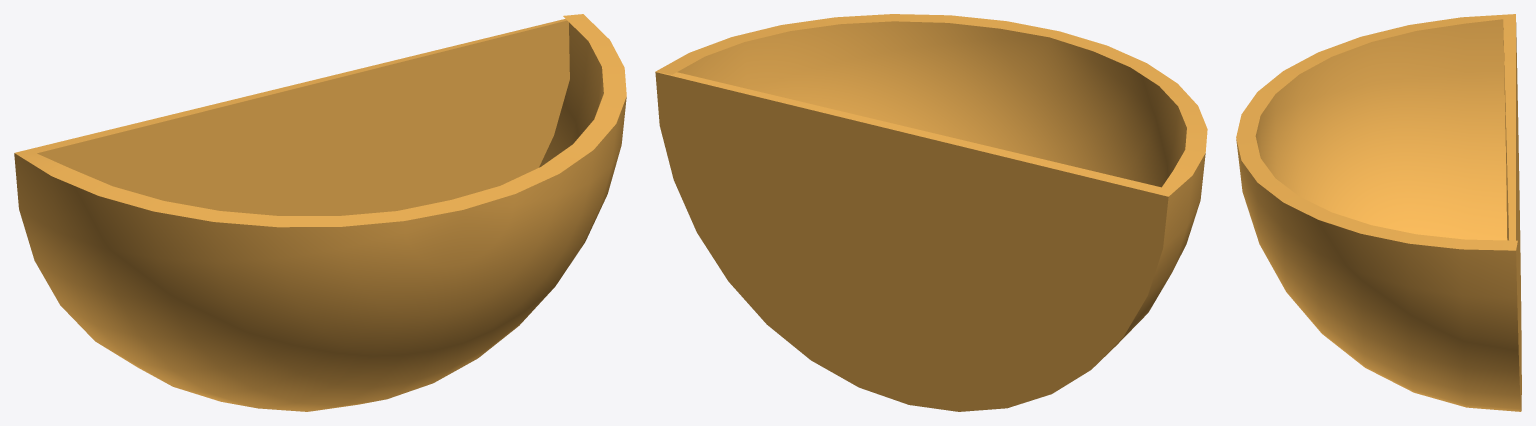
The model's file is kosz_zamykanie.gltf.
3 views of the same model, side by side, from view 1: azimuth 30°, elevation 25°; view 2: azimuth 150°, elevation 25°; view 3: azimuth 270°, elevation 25° (orthographic). The views are drawn at different scales.
Parts seen in each view (by area): view 1: Sphere.002; view 2: Sphere.002; view 3: Sphere.002.
Boxes of the visible parts, x1,y1,x2,y2 form: Sphere.002: [14, 14, 626, 411]; Sphere.002: [655, 14, 1207, 411]; Sphere.002: [1236, 14, 1521, 411].
Size of the model in its own units: 1.85 by 0.9336 by 0.9465.
Materials: 1 (1 with a texture image).
